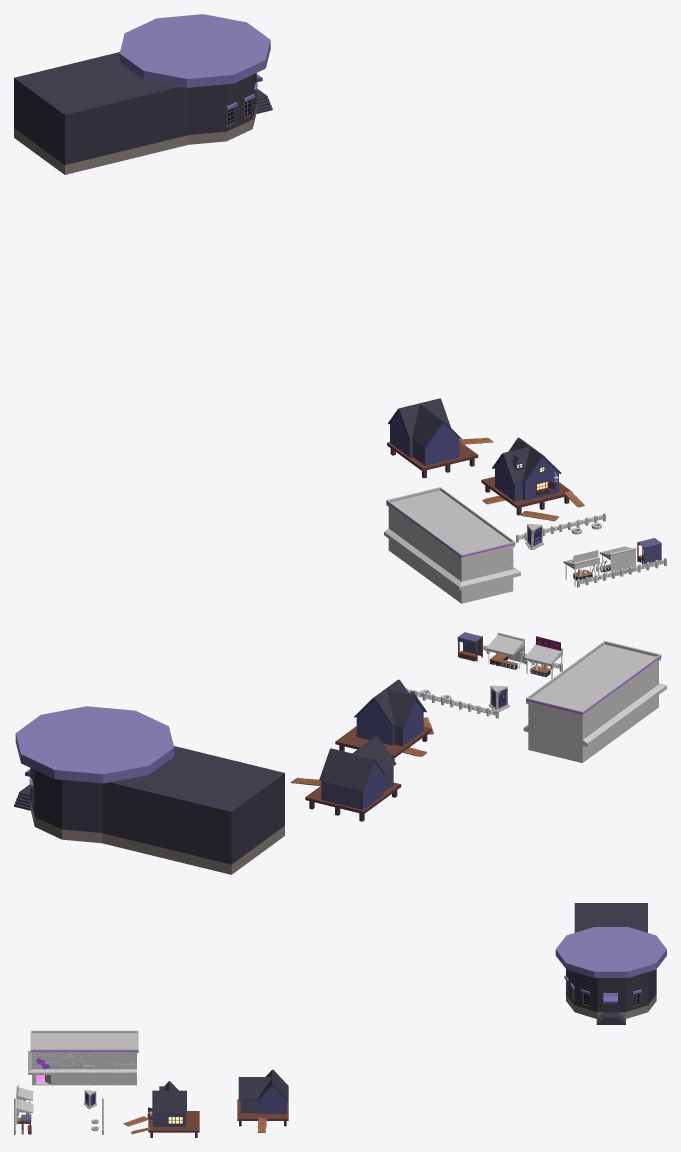
The model's file is EXT_DirtBottom_TheRiver.fbx.
3 renders of one model, top to bottom at view 1: azimuth 30°, elevation 25°; view 2: azimuth 150°, elevation 25°; view 3: azimuth 270°, elevation 25°, orthographic. The views are drawn at different scales.
Visible parts, largest first — view 1: Water.050, Cube.4336, Cube.4939, Cube.4934; view 2: Water.050, Cube.4336, Cube.4939, Cube.4934, Cube.4936, Cube.4940, Awning.012, Awning.028, Fence.040, AP_Cinderblock_New.170, Street_OKCurrents.001; view 3: Water.050, Cube.4336, Cube.4939, Cube.4934, Cube.4936, Cube.4940.
Boxes of the visible parts, bbox=[...] form: Water.050: bbox=[14, 14, 270, 174]; Cube.4336: bbox=[384, 487, 520, 603]; Cube.4939: bbox=[388, 398, 461, 465]; Cube.4934: bbox=[492, 437, 561, 501]; Water.050: bbox=[15, 706, 284, 874]; Cube.4336: bbox=[523, 640, 666, 762]; Cube.4939: bbox=[319, 735, 396, 809]; Cube.4934: bbox=[354, 679, 426, 746]; Cube.4936: bbox=[335, 726, 431, 760]; Cube.4940: bbox=[305, 782, 401, 821]; Awning.012: bbox=[486, 632, 524, 669]; Awning.028: bbox=[524, 643, 562, 678]; Fence.040: bbox=[405, 687, 498, 718]; AP_Cinderblock_New.170: bbox=[457, 632, 482, 661]; Street_OKCurrents.001: bbox=[488, 685, 509, 711]; Water.050: bbox=[555, 903, 666, 1018]; Cube.4336: bbox=[28, 1030, 138, 1085]; Cube.4939: bbox=[238, 1069, 288, 1113]; Cube.4934: bbox=[152, 1081, 186, 1126]; Cube.4936: bbox=[148, 1111, 199, 1137]; Cube.4940: bbox=[237, 1099, 288, 1126].
Size of the model in its own units: 4914 by 4960 by 17307.
